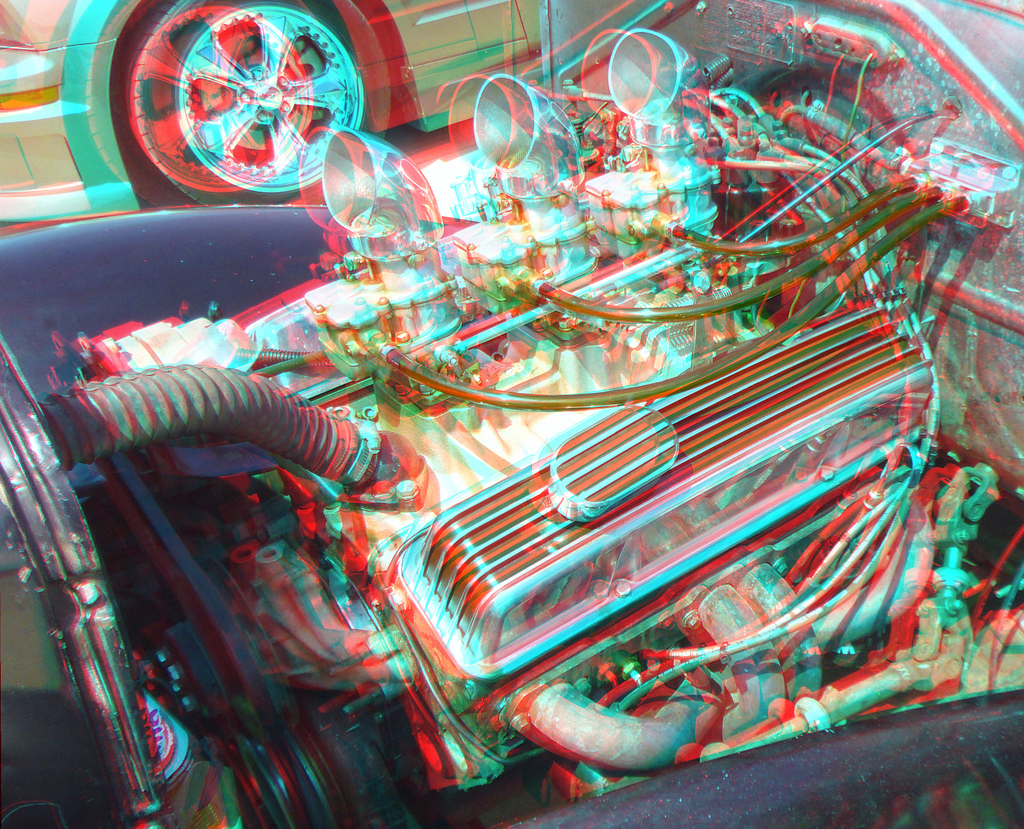Wheel: (118, 0, 373, 195)
